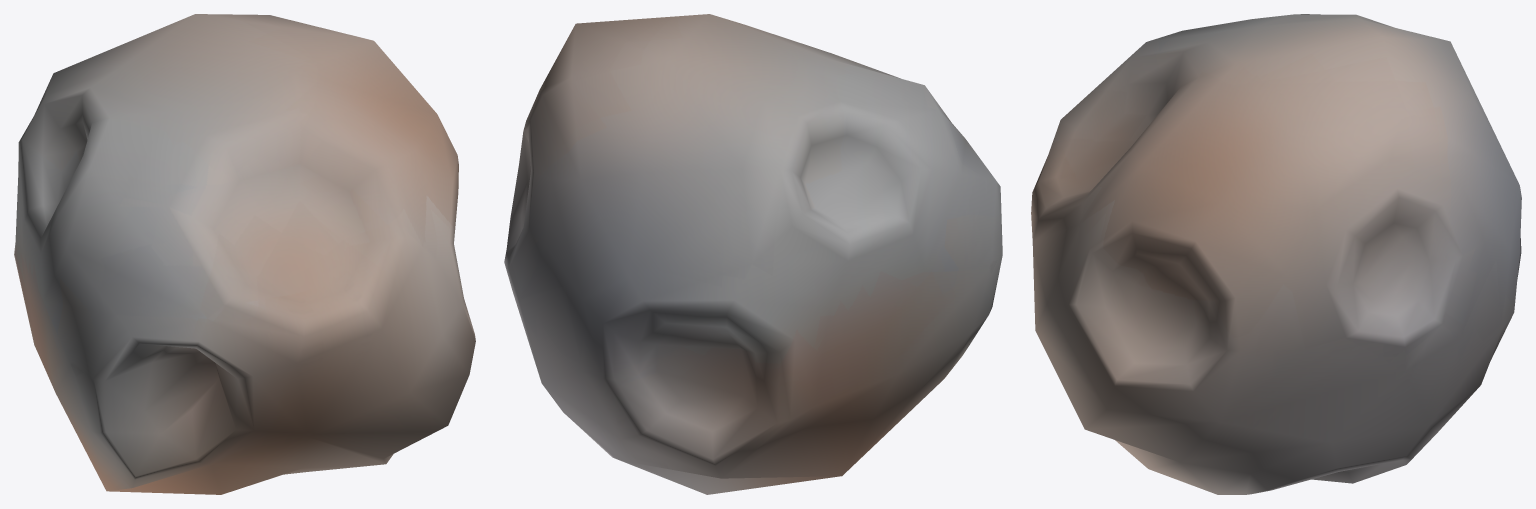
Rendered from asteroid_1.fbx.
3 renders of one model, left to right at view 1: azimuth 30°, elevation 25°; view 2: azimuth 150°, elevation 25°; view 3: azimuth 270°, elevation 25°, orthographic. The views are drawn at different scales.
Parts seen in each view (by area): view 1: polySurface1; view 2: polySurface1; view 3: polySurface1.
Boxes of the visible parts, box(x1,y1,x2,y2) form: polySurface1: box(14, 14, 475, 494); polySurface1: box(504, 14, 1002, 494); polySurface1: box(1031, 14, 1521, 494).
Size of the model in its own units: 18.42 by 18.9 by 18.82.
Materials: 1 (1 with a texture image).
